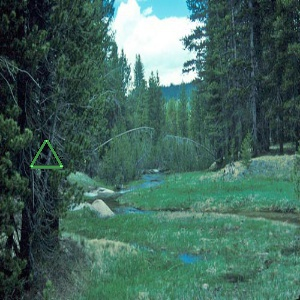triangle: (24, 136, 66, 174)
